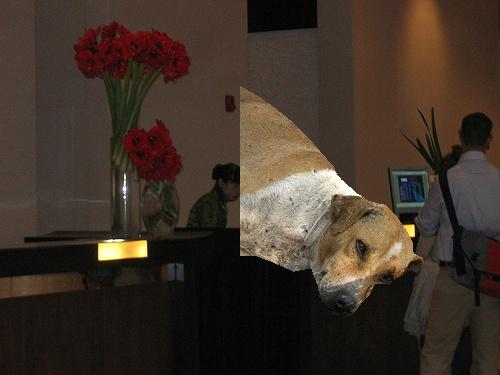tampered: (241, 87, 424, 316)
